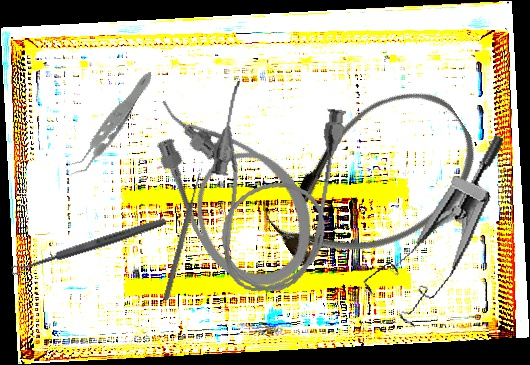Cannula: (245, 66, 500, 298), (130, 64, 335, 307), (195, 78, 349, 301)
Pusher: (162, 171, 204, 301)
Speculum: (355, 110, 507, 339)
Surgical Spoon: (9, 215, 168, 277)
Tissue Forceps: (41, 70, 176, 179)
